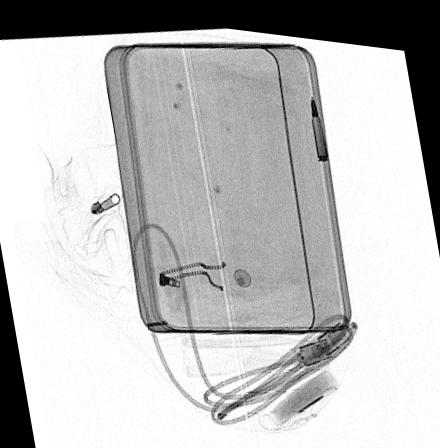Bullet: (309, 85, 328, 153)
